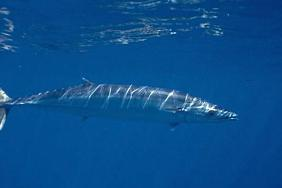Scombridae -Tunas-: (0, 70, 239, 142)
